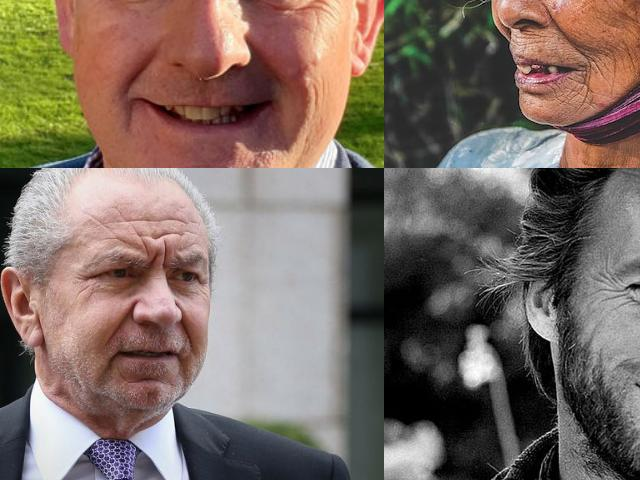chin: (560, 85, 594, 111), (137, 372, 167, 390), (113, 364, 127, 386)
crows_feet: (602, 280, 628, 304), (78, 268, 99, 288), (194, 274, 210, 294), (308, 0, 331, 9)
forehead: (99, 217, 121, 243), (130, 210, 160, 229), (148, 226, 178, 244), (166, 210, 190, 229)
frown_line: (149, 242, 169, 266)
gummy_smile: (118, 51, 154, 87), (542, 7, 570, 41), (111, 302, 132, 340), (178, 318, 192, 346)
sad_smile: (583, 48, 621, 82)
smoker_lines: (509, 33, 536, 54)
